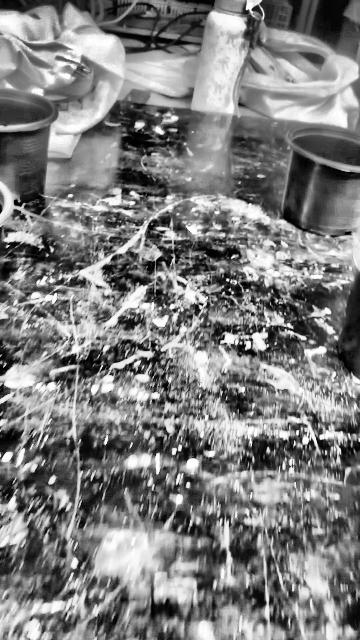pot: (282, 126, 359, 237), (0, 89, 57, 202)
